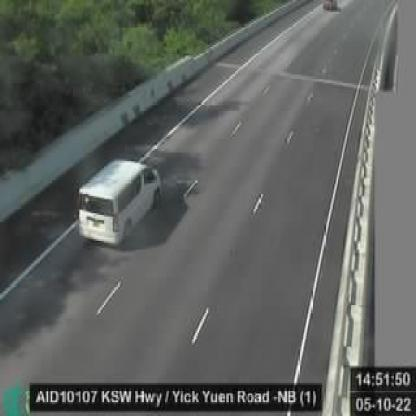Car: (75, 158, 160, 248)
